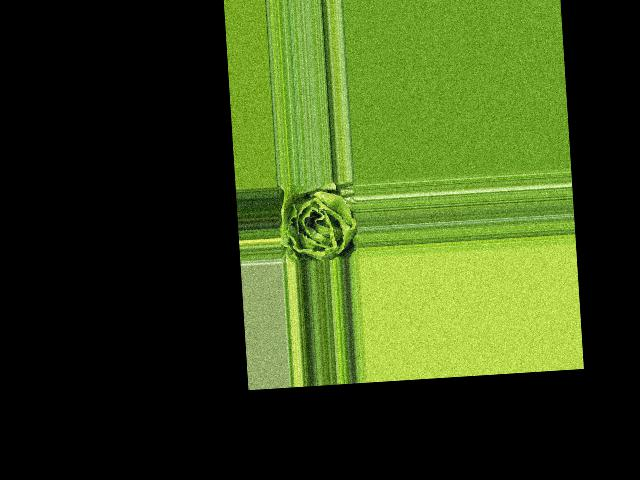lettuce: (277, 180, 358, 262)
